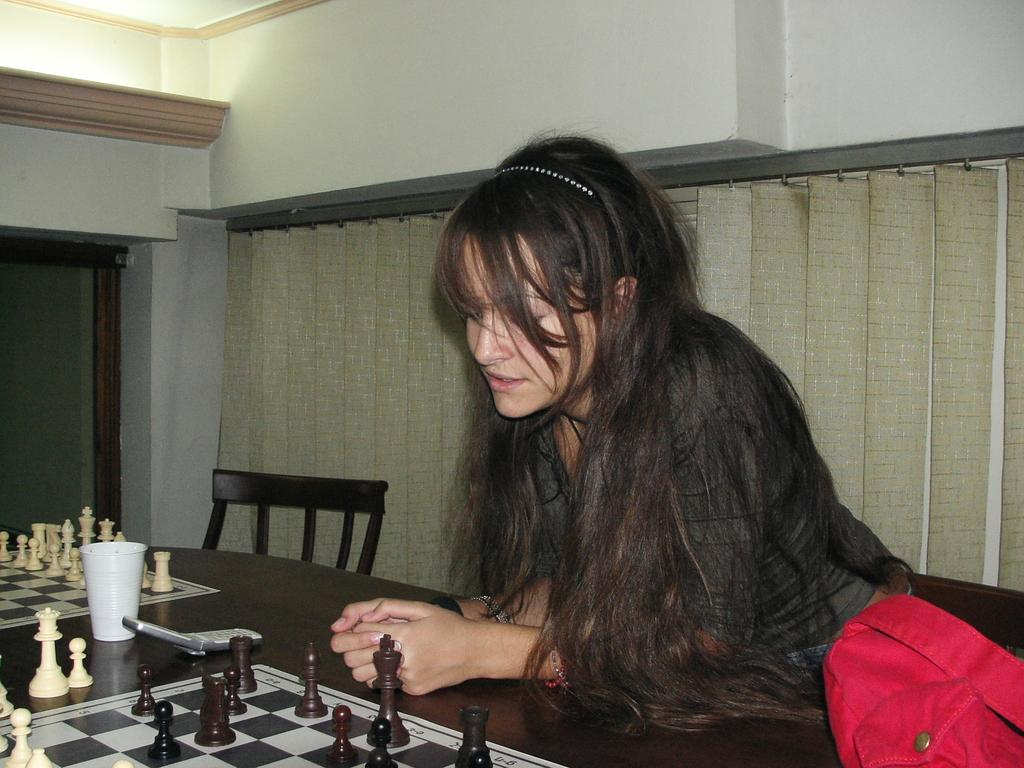Chair: (821, 569, 1023, 686), (186, 468, 387, 579)
